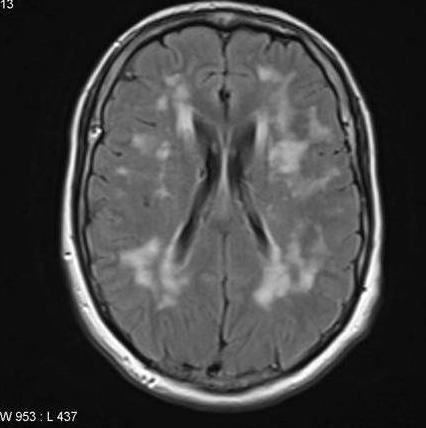Normal_Brain: (34, 1, 404, 428)
